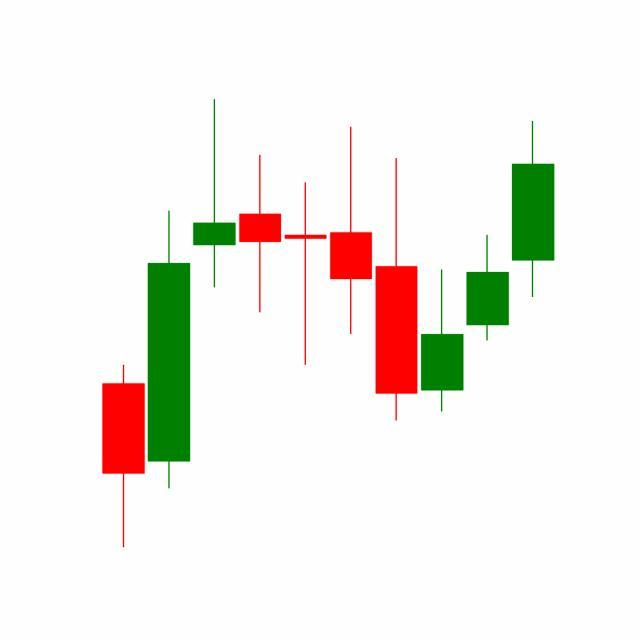Hikkake Pattern: (283, 125, 512, 426)
